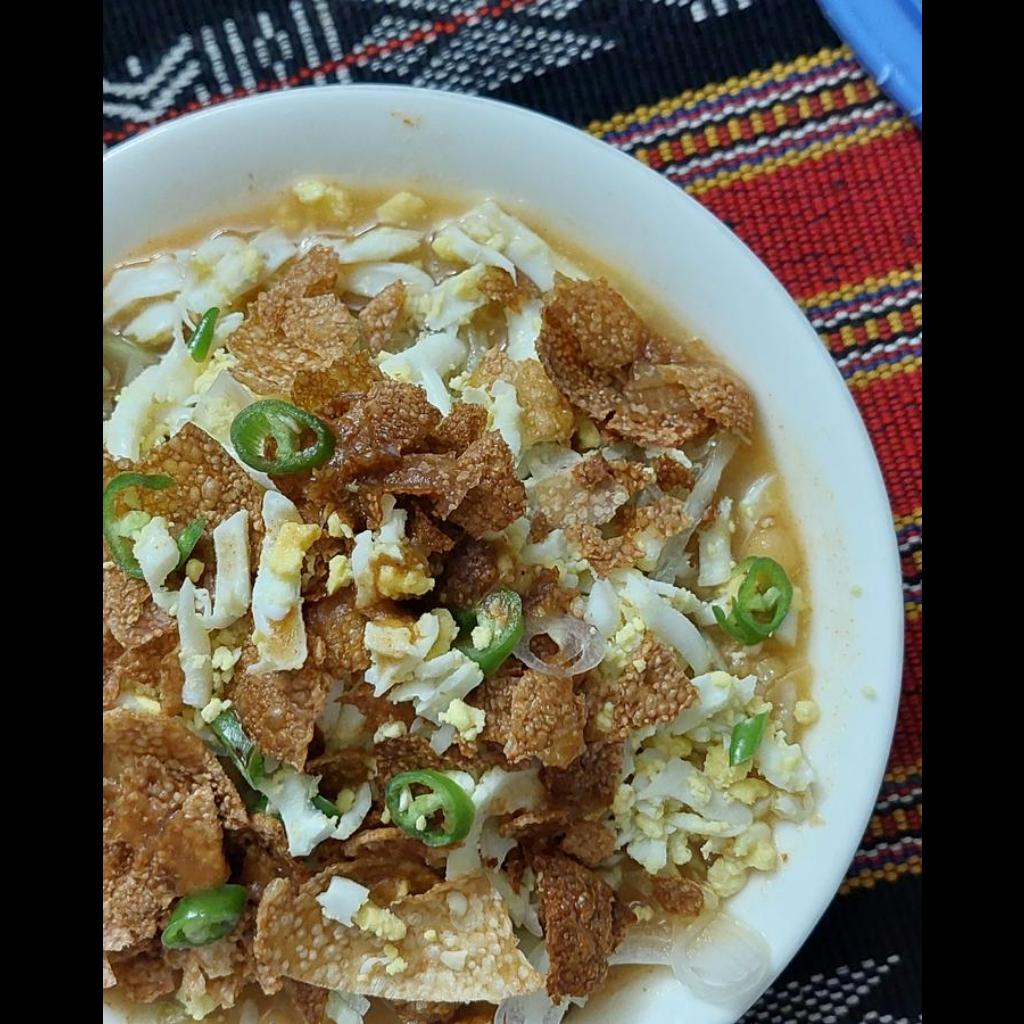daal: (102, 198, 807, 1020)
